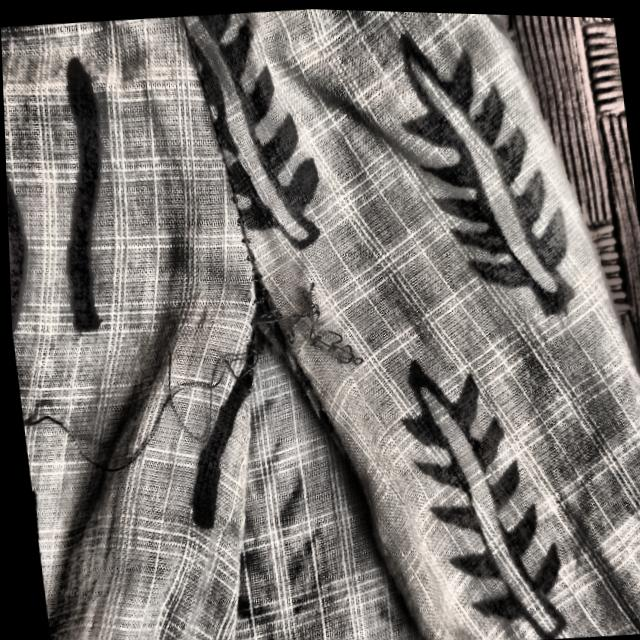Stitch: (16, 253, 416, 471)
